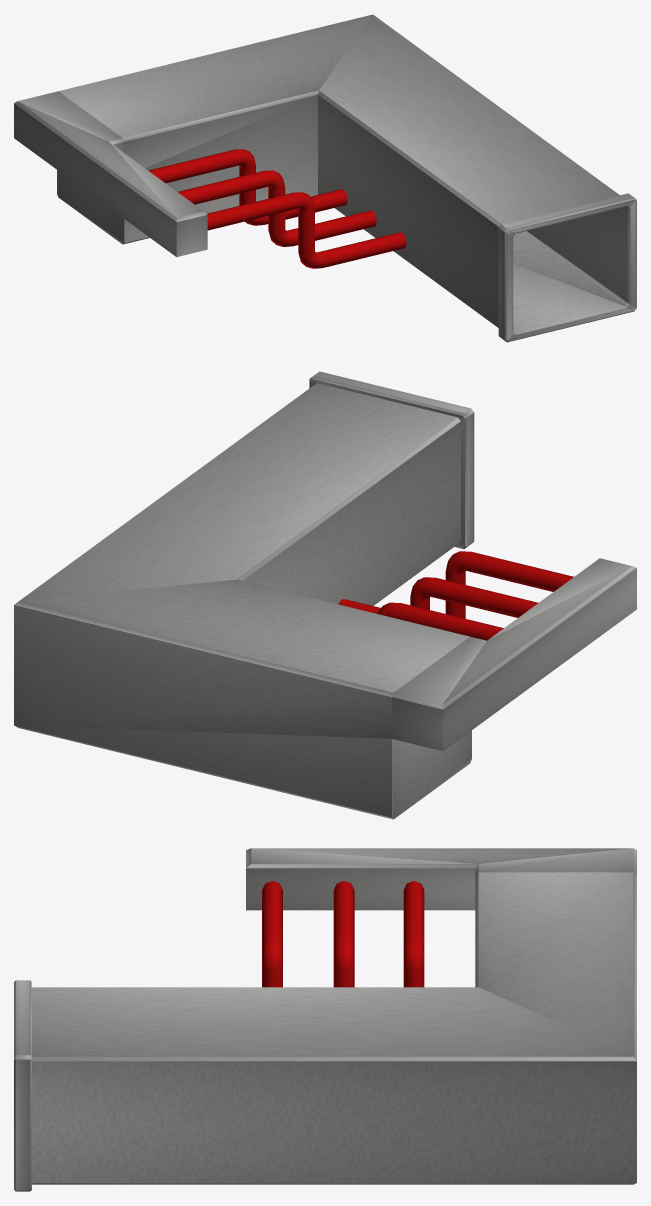
File: milkBox.fbx
The picture shows the model from 3 angles, top to bottom: view 1: azimuth 30°, elevation 25°; view 2: azimuth 150°, elevation 25°; view 3: azimuth 270°, elevation 25°; orthographic projection. The views are drawn at different scales.
Parts seen in each view (by area): view 1: Base; view 2: Base; view 3: Base.
Boxes of the visible parts, x1,y1,x2,y2 form: Base: (14,14,636,342); Base: (14,371,636,819); Base: (14,848,636,1191).
Size of the model in its own units: 574 by 707 by 171.
